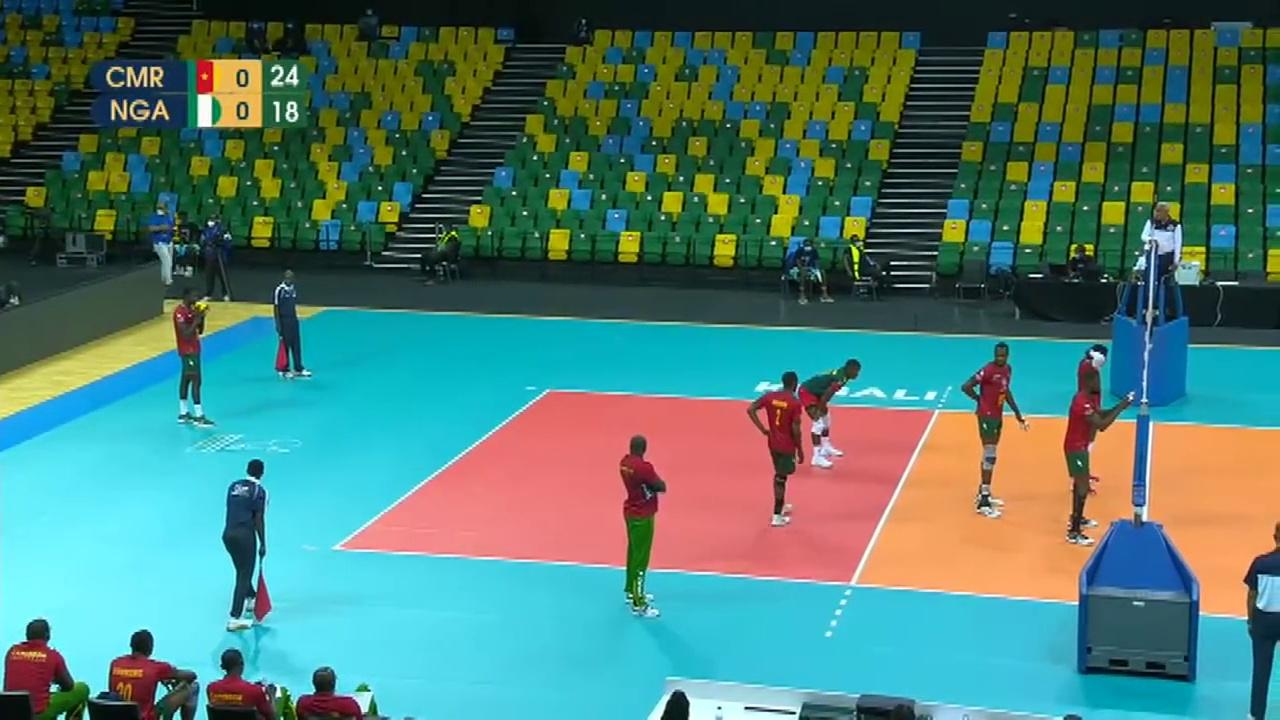player: (960, 344, 1029, 514), (749, 373, 818, 525), (1068, 369, 1120, 548), (798, 360, 863, 467), (1069, 343, 1112, 496), (170, 291, 209, 423)
refree: (1232, 515, 1280, 720), (222, 462, 275, 625), (1141, 198, 1182, 310), (268, 269, 308, 377)
